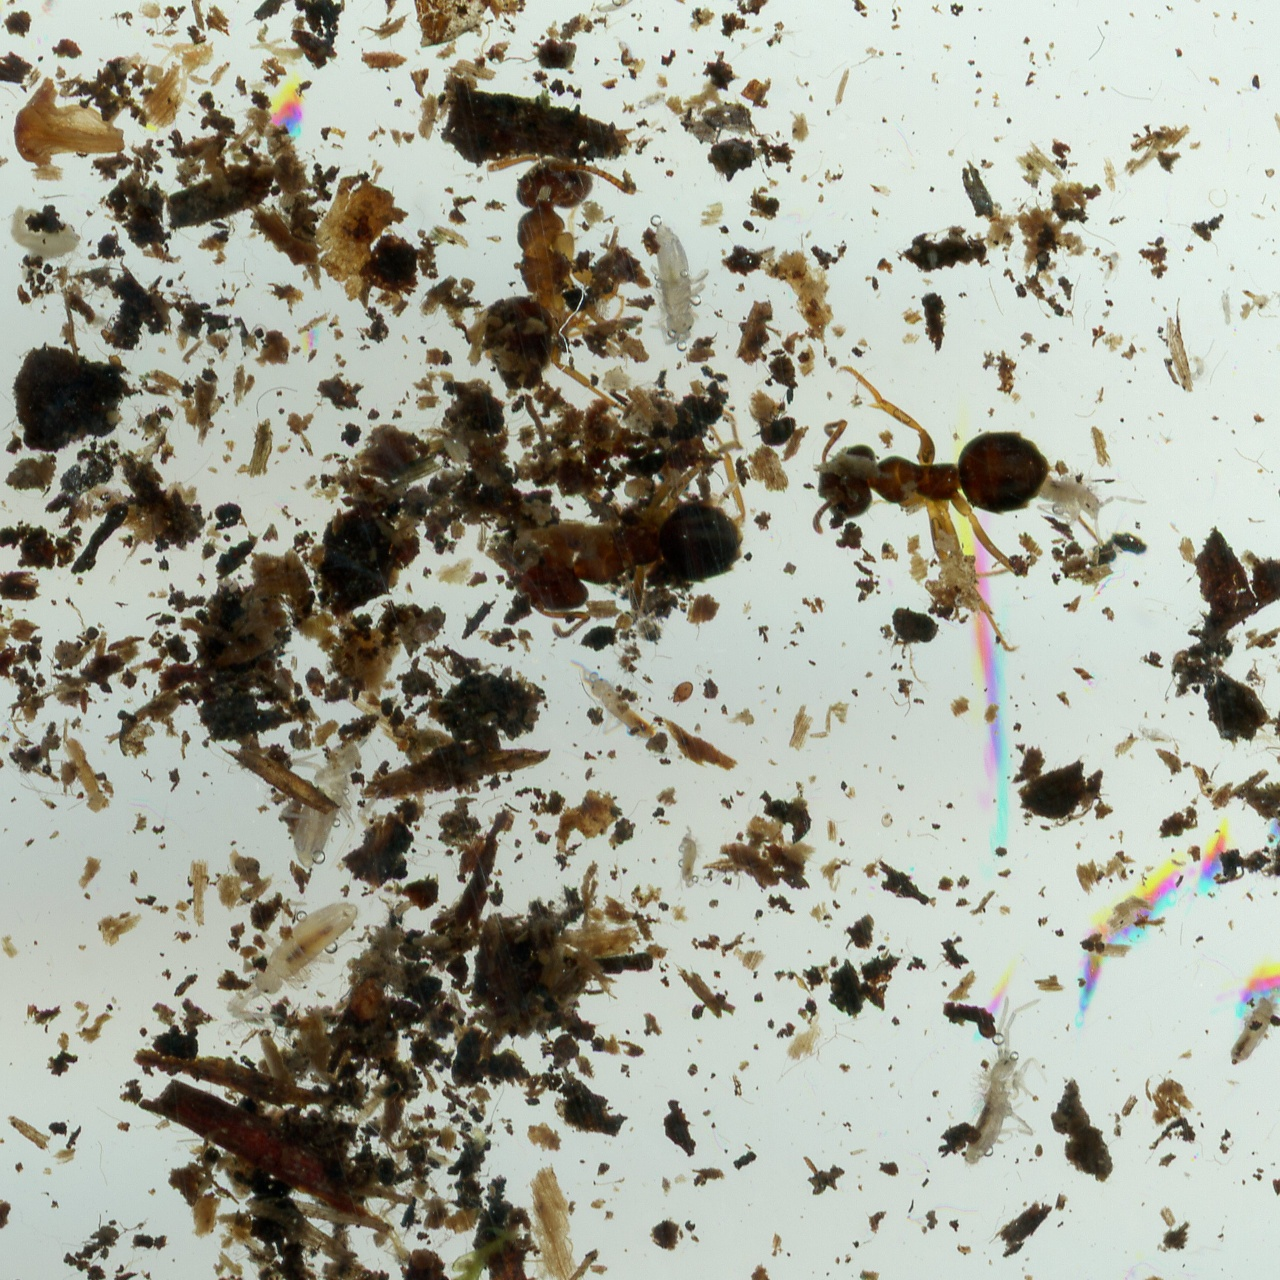arthropod: (781, 321, 1078, 675), (487, 390, 754, 643), (455, 146, 646, 416), (194, 860, 380, 1049), (258, 663, 413, 887), (947, 983, 1069, 1184), (545, 644, 665, 766), (590, 0, 786, 58), (648, 222, 718, 349), (1044, 455, 1144, 540), (1213, 977, 1280, 1078), (148, 40, 219, 111), (675, 820, 707, 891), (1131, 719, 1190, 753), (135, 0, 179, 37), (627, 88, 670, 119), (1098, 248, 1126, 295), (609, 33, 640, 71), (666, 680, 698, 709), (1187, 342, 1209, 384), (1218, 289, 1236, 327), (35, 0, 61, 23), (220, 0, 269, 10)
